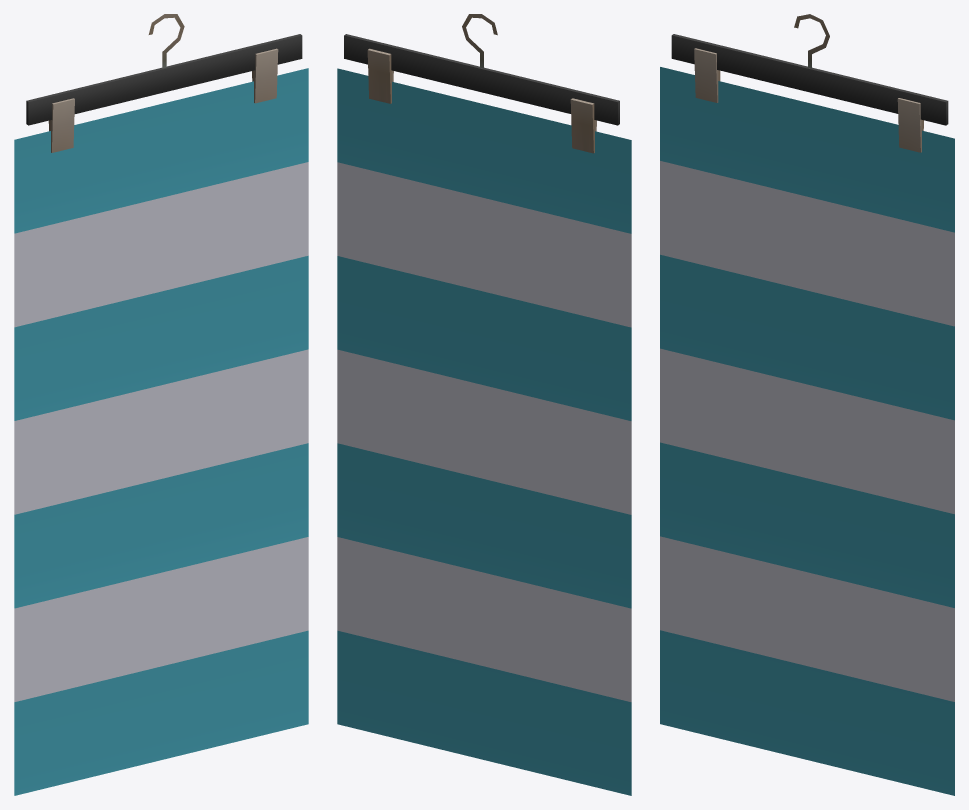
Rendered from Hang_Towel_01.FBX.
3 views of the same model, side by side, from view 1: azimuth 30°, elevation 25°; view 2: azimuth 150°, elevation 25°; view 3: azimuth 330°, elevation 25° (orthographic).
Visible parts, largest first — view 1: Hang_Towel_01; view 2: Hang_Towel_01; view 3: Hang_Towel_01.
Boxes of the visible parts, x1=… form: Hang_Towel_01: x1=14, y1=14, x2=308, y2=795; Hang_Towel_01: x1=337, y1=14, x2=631, y2=795; Hang_Towel_01: x1=660, y1=14, x2=954, y2=795.
Size of the model in its own units: 0.4782 by 0.0145 by 1.16.
